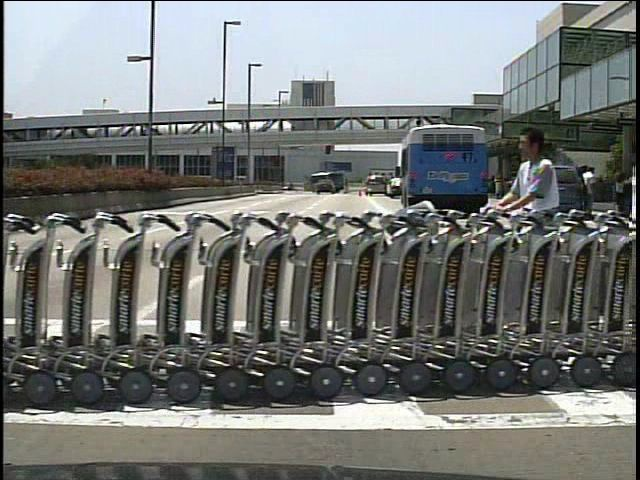person: (487, 126, 573, 363), (572, 163, 590, 223), (580, 165, 601, 214), (342, 176, 350, 196)
